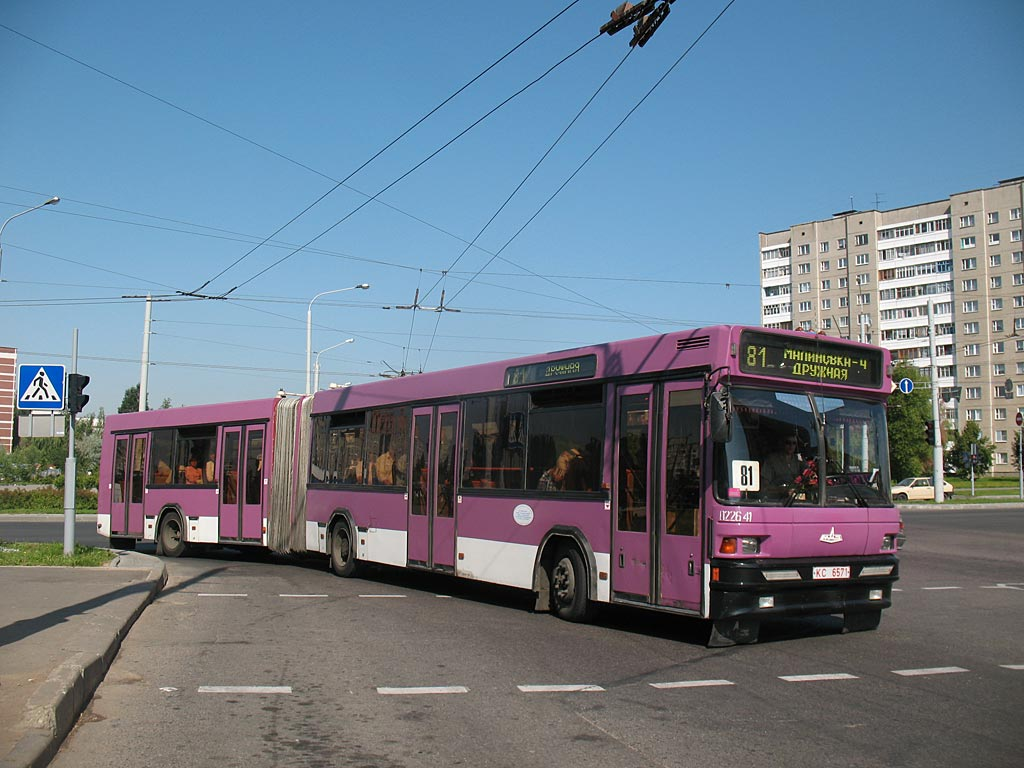bus: (98, 322, 901, 646)
